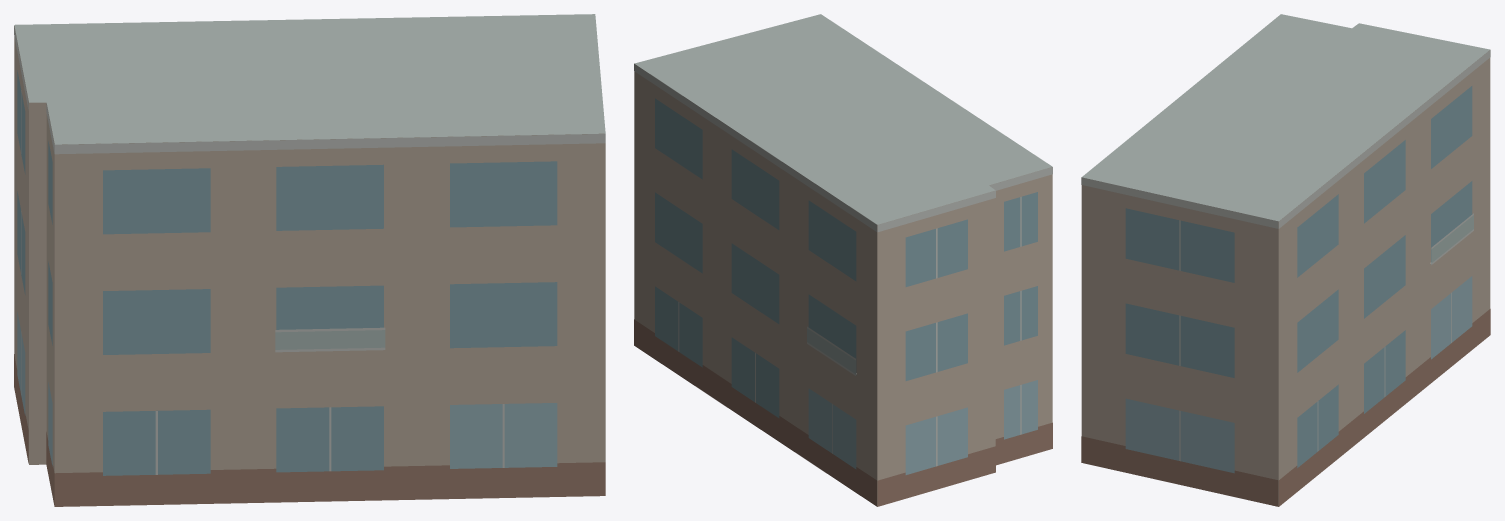
Rendered from survey-upis-32687668.glb.
3 renders of one model, left to right at view 1: azimuth 30°, elevation 25°; view 2: azimuth 150°, elevation 25°; view 3: azimuth 270°, elevation 25°, orthographic. The views are drawn at different scales.
Visible parts, largest first — view 1: survey-upis-32687668.tmp; view 2: survey-upis-32687668.tmp; view 3: survey-upis-32687668.tmp.
Boxes of the visible parts, x1,y1,x2,y2 form: survey-upis-32687668.tmp: [14, 14, 605, 506]; survey-upis-32687668.tmp: [634, 14, 1052, 506]; survey-upis-32687668.tmp: [1081, 14, 1490, 506].
Bounding box in the file's own units: 14.26 × 9.15 × 11.89.
